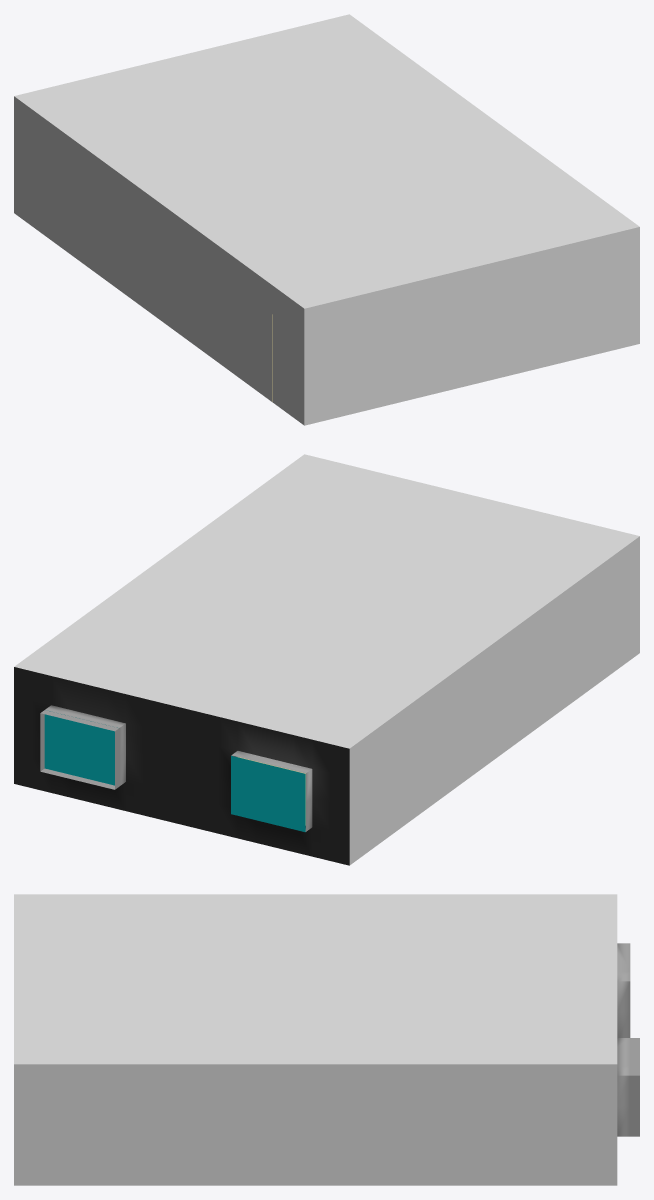
The model's file is Raum.fbx.
3 renders of one model, top to bottom at view 1: azimuth 30°, elevation 25°; view 2: azimuth 150°, elevation 25°; view 3: azimuth 270°, elevation 25°, orthographic. The views are drawn at different scales.
Visible parts, largest first — view 1: pPlane2; view 2: pPlane2; view 3: pPlane2.
Part boxes in pixels (x1,y1,x2,y2): pPlane2: (14, 14, 639, 425); pPlane2: (14, 454, 639, 865); pPlane2: (14, 894, 639, 1185).
Size of the model in its own units: 12.01 by 4 by 18.68.
